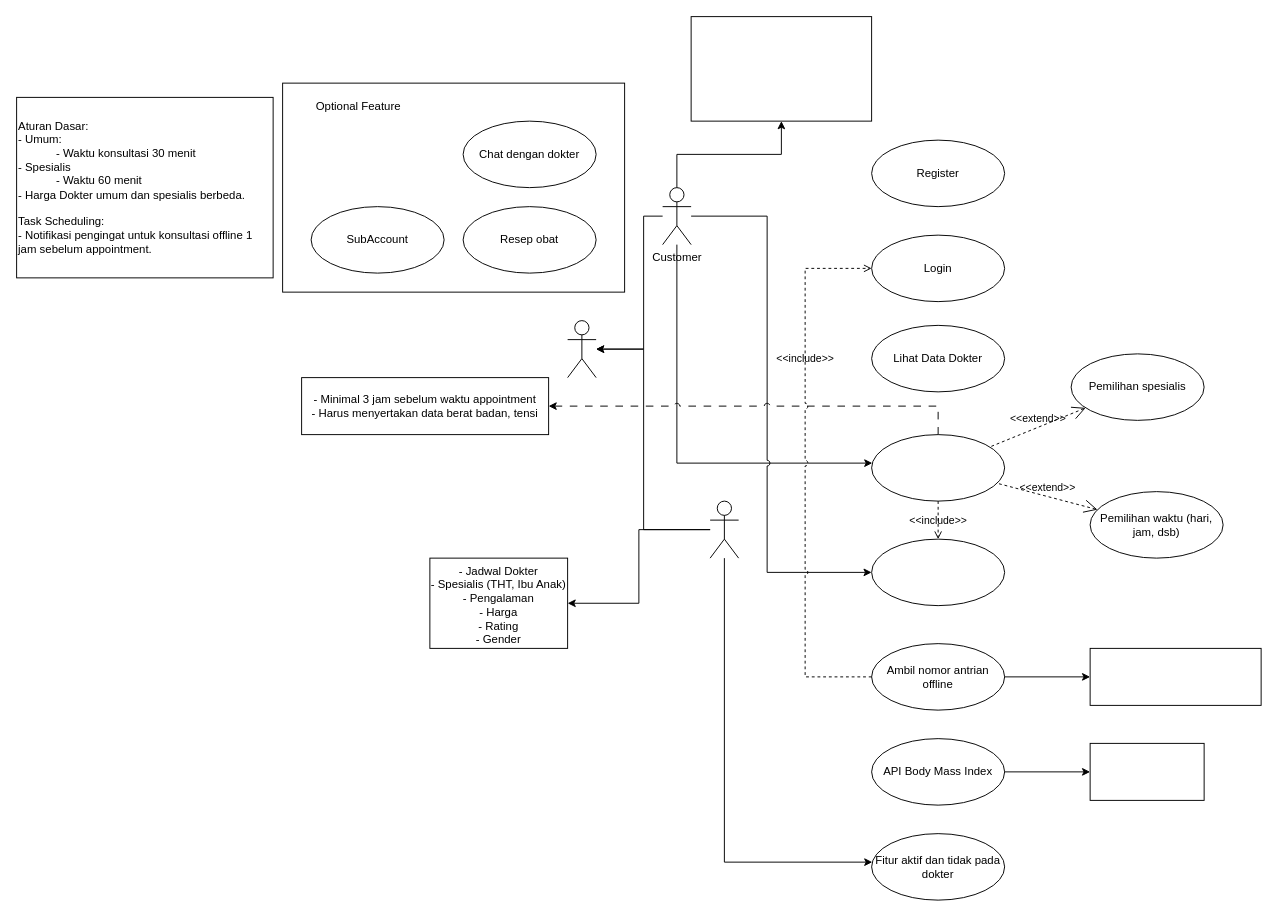
Some shapes in this 1278 by 917 pixel diagram are drawn without their labels. Here are the shapes that lost their labels. From the top down, the centre of each, then its label:
point 781,68: - Nama - Gender - Tinggi Badan - Berat badan - Golongan Darah
point 581,349: Admin
point 938,467: Buat appointment
point 724,529: Doctor
point 938,572: Lakukan pembayaran
point 1175,676: - 2FA menggunakan email
point 1146,771: - Tidak ada batas rate limiter untuk - Rate limiter untuk guest
